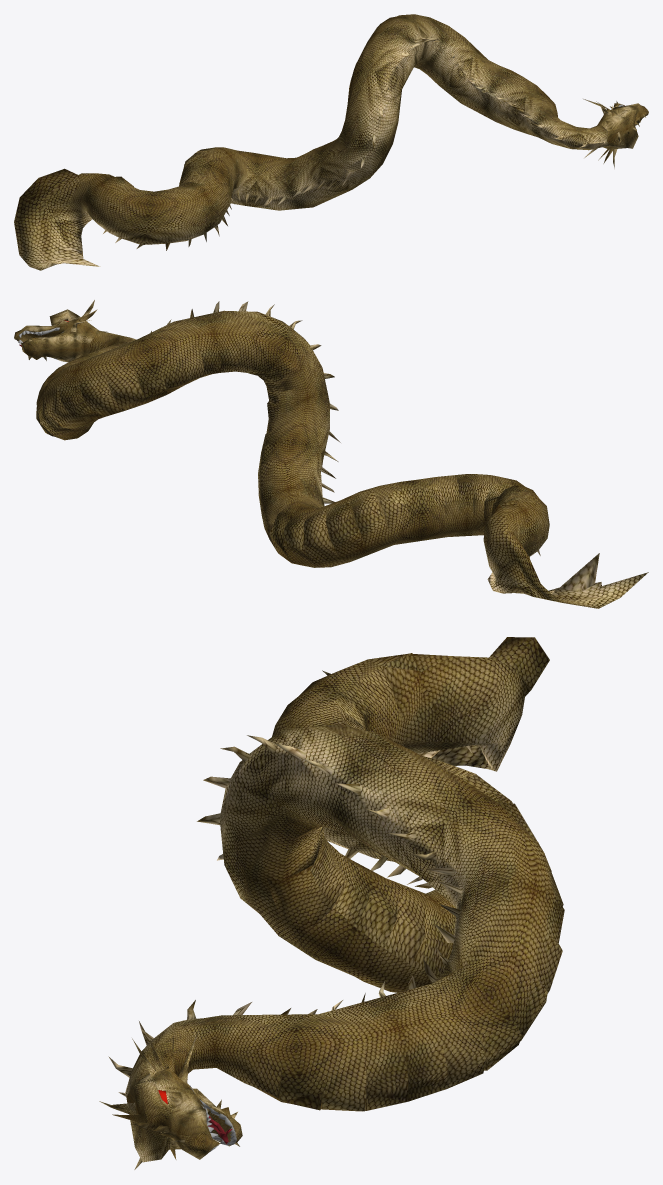
File: surasa_000021.obj
3 renders of one model, top to bottom at view 1: azimuth 30°, elevation 25°; view 2: azimuth 150°, elevation 25°; view 3: azimuth 270°, elevation 25°, orthographic. The views are drawn at different scales.
Visible parts, largest first — view 1: body_Plane.001; view 2: body_Plane.001; view 3: body_Plane.001.
Part boxes in pixels (x1=…): body_Plane.001: x1=14, y1=14, x2=648, y2=270; body_Plane.001: x1=14, y1=300, x2=648, y2=608; body_Plane.001: x1=99, y1=637, x2=564, y2=1169.
Bounding box in the file's own units: 60.95 × 17.08 × 21.39.
